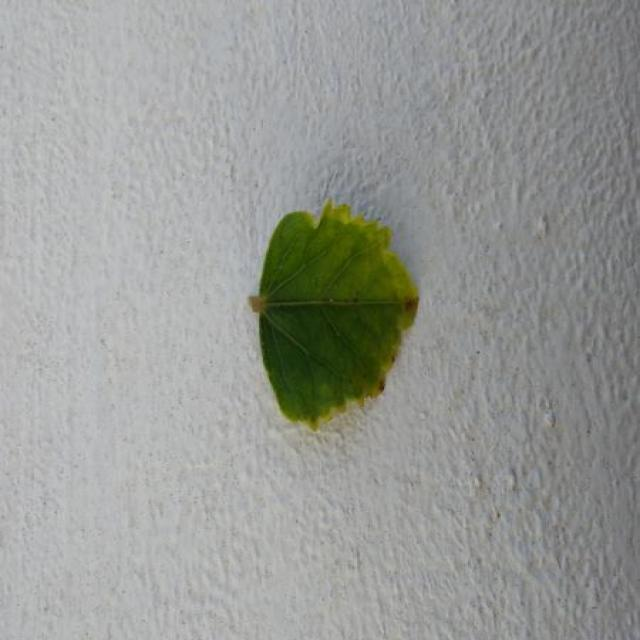Hibiscus: (250, 202, 418, 428)
